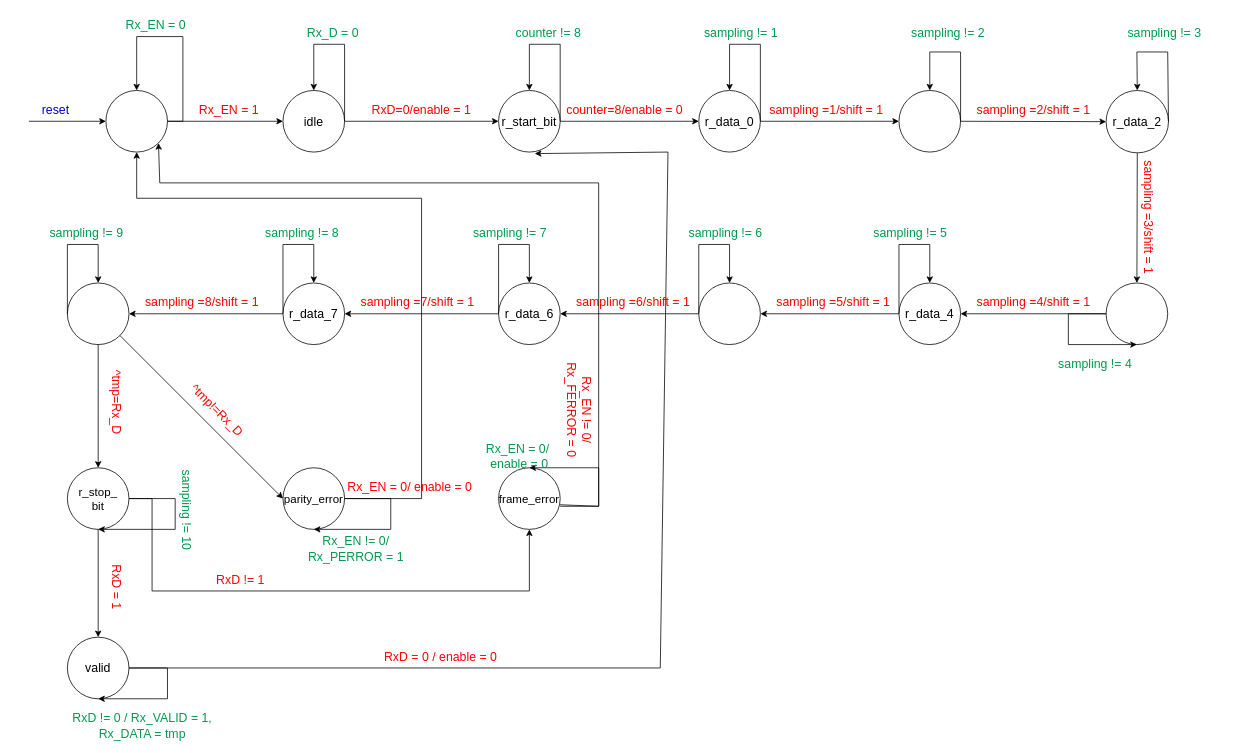
This 1243x753 diagram has some shape labels left out. Each missing label, with the centre of its shape:
"r_data_1" belongs at [929,121].
"r_data_3" belongs at [1136,313].
"r_data_5" belongs at [729,313].
"r_off" belongs at [136,121].
"r_parity_bit" belongs at [98,313].
